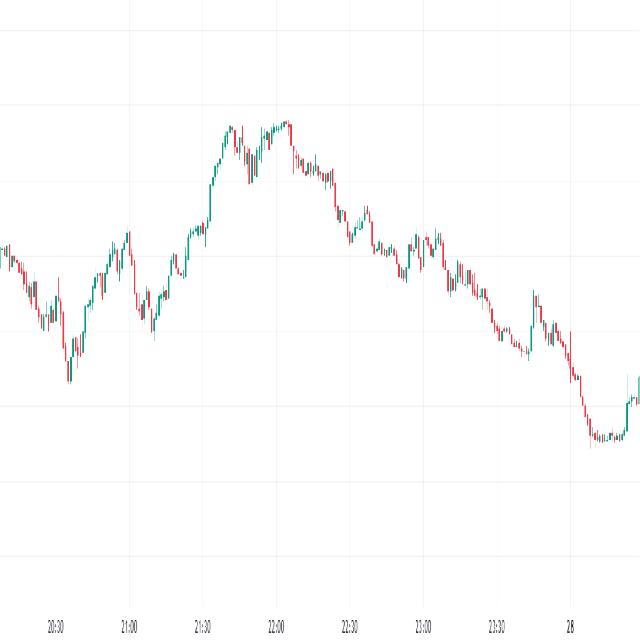Channel-down: (234, 94, 637, 478)
Channel-up: (75, 214, 140, 345)
